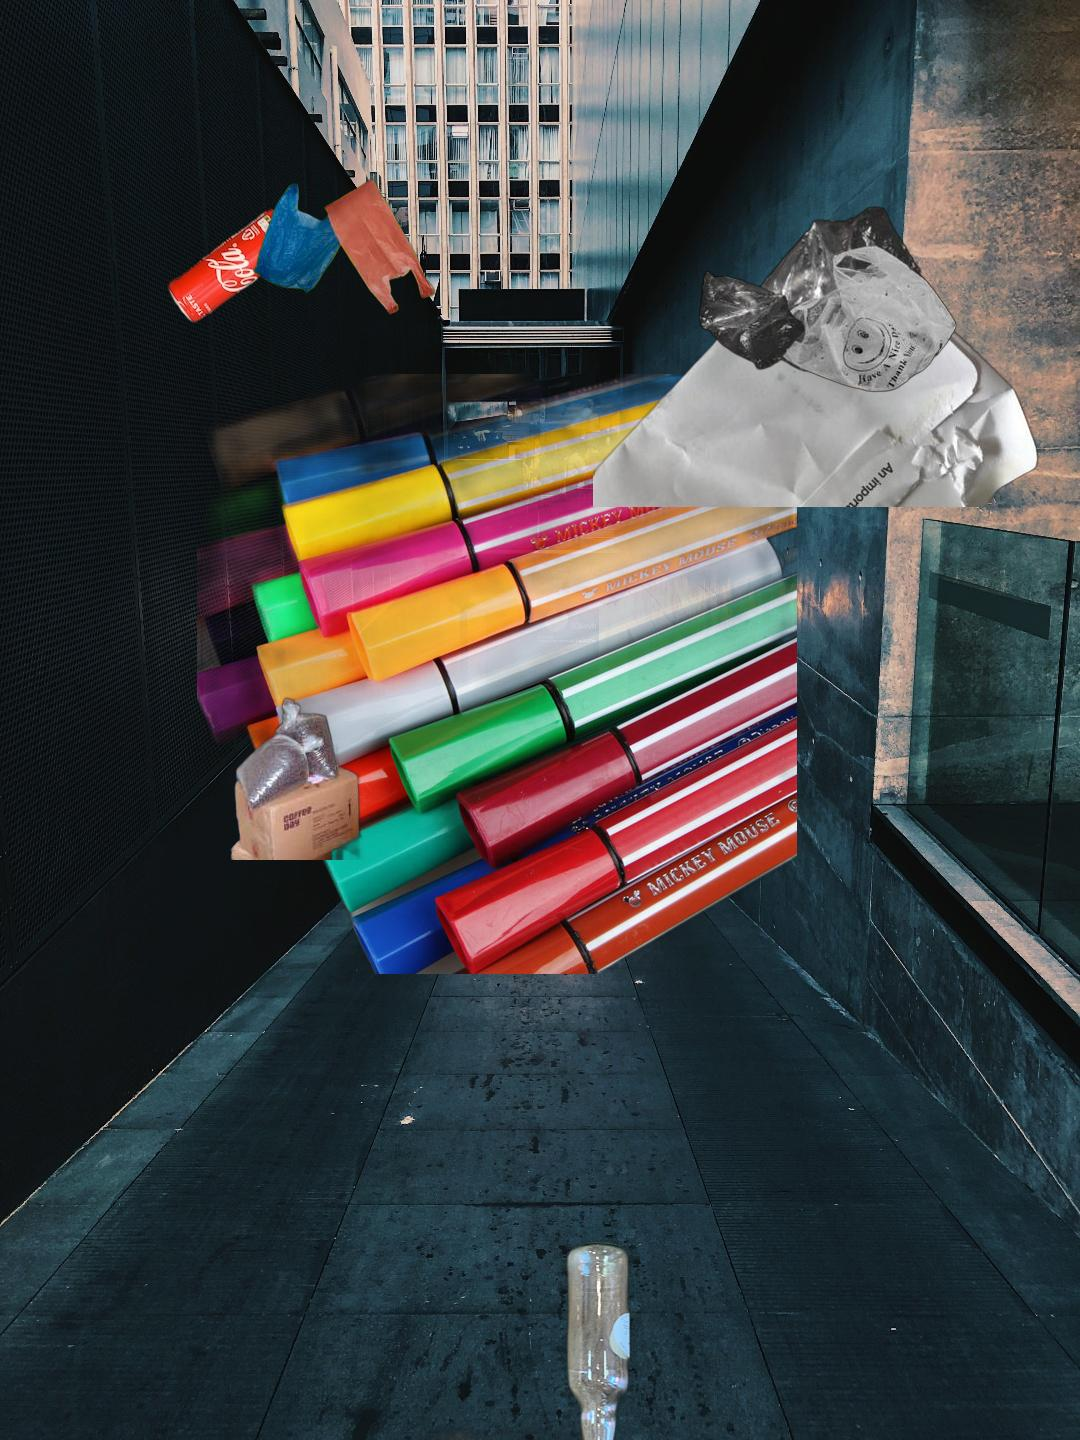glass: (562, 1236, 635, 1440)
metal-cans: (164, 203, 302, 329)
paper: (593, 215, 1043, 507)
penholder: (197, 374, 798, 974)
plastic-bag: (697, 204, 957, 395), (248, 177, 438, 317)
trashbox-cardboard: (175, 611, 407, 859), (400, 1411, 912, 1440)
